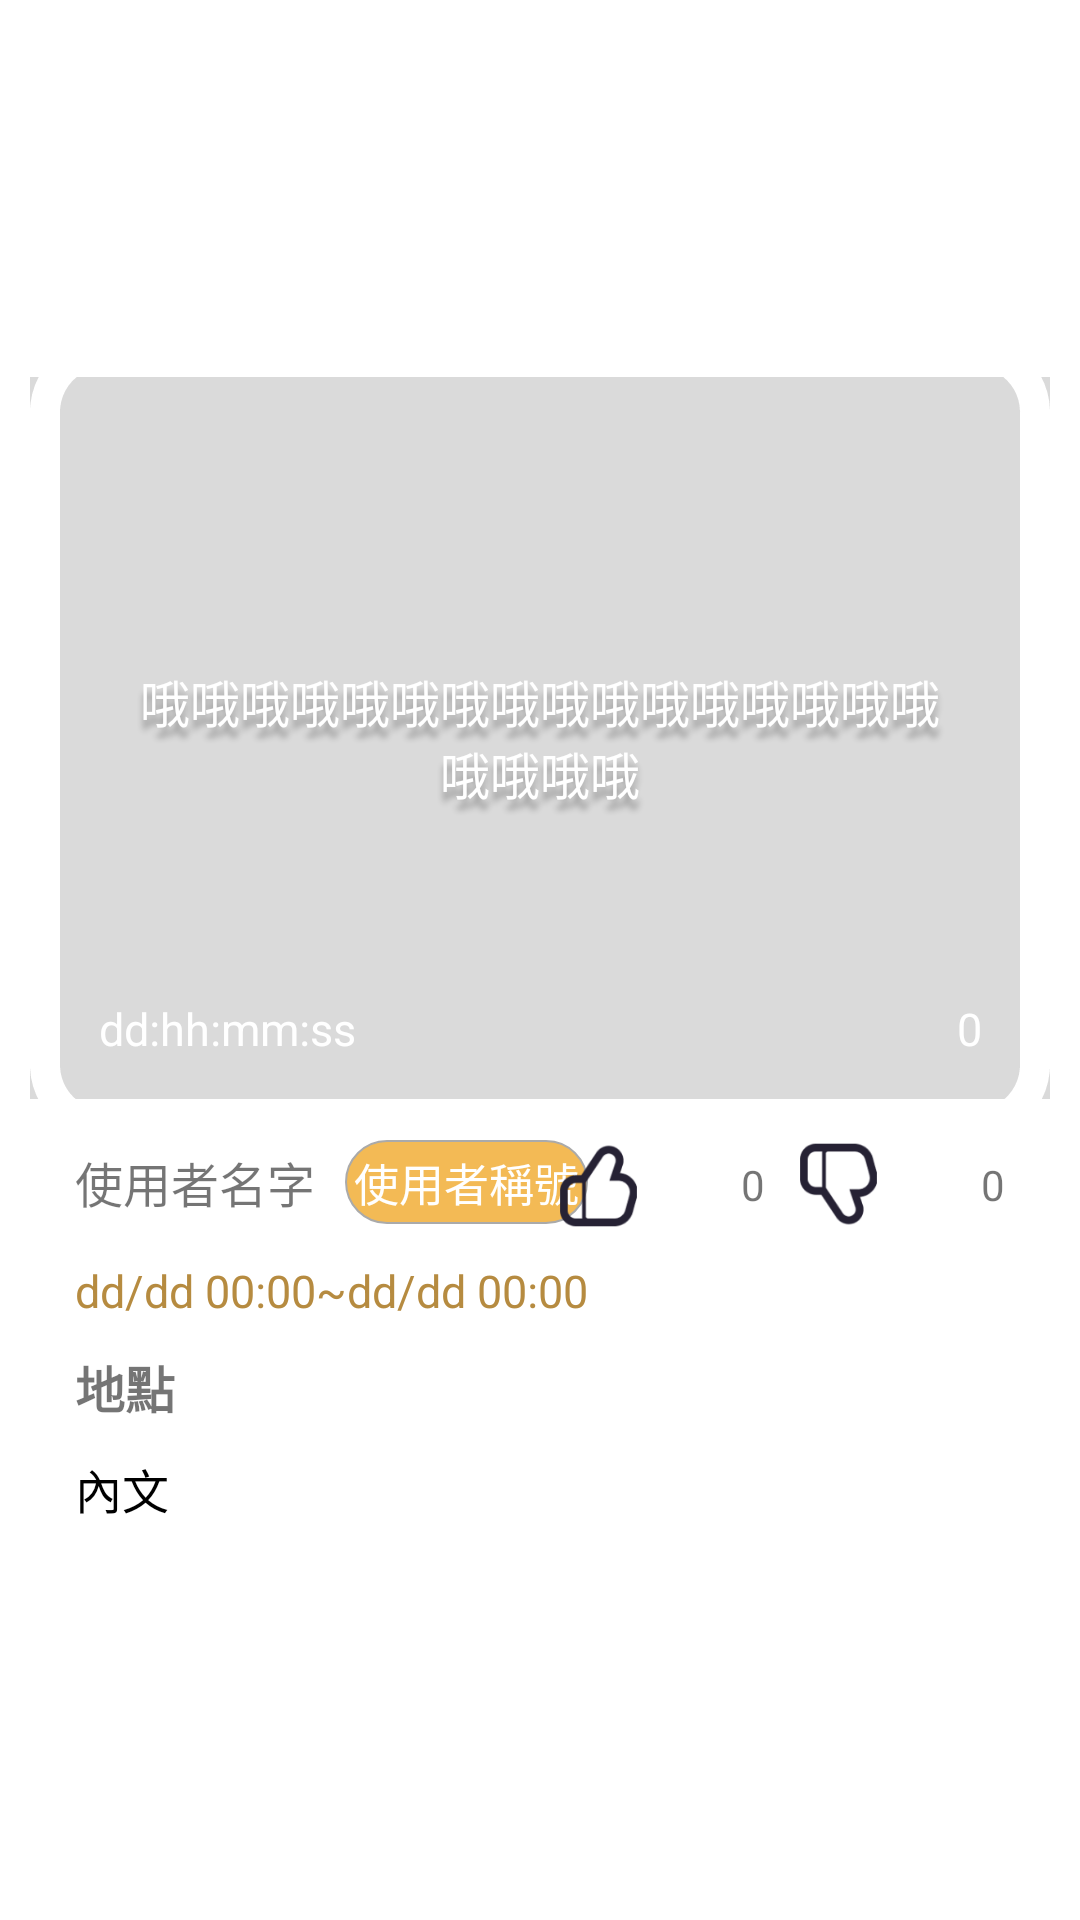

Locate icon controls on the screen. Image size 1080 x 1920, boxes as (x1, y1, x2, y2).
bad: (800, 1143, 877, 1225)
good: (555, 1141, 637, 1227)
